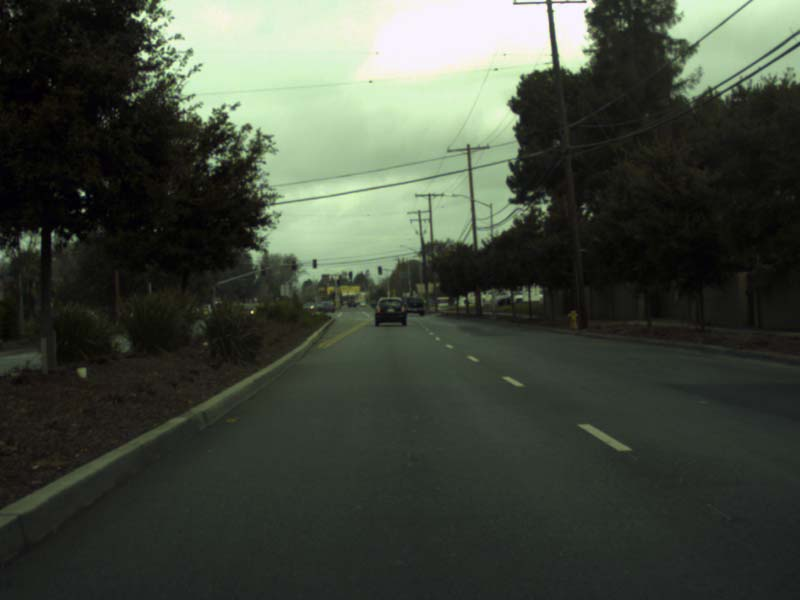Green: (348, 271, 353, 280), (377, 266, 381, 274), (409, 287, 413, 295)
